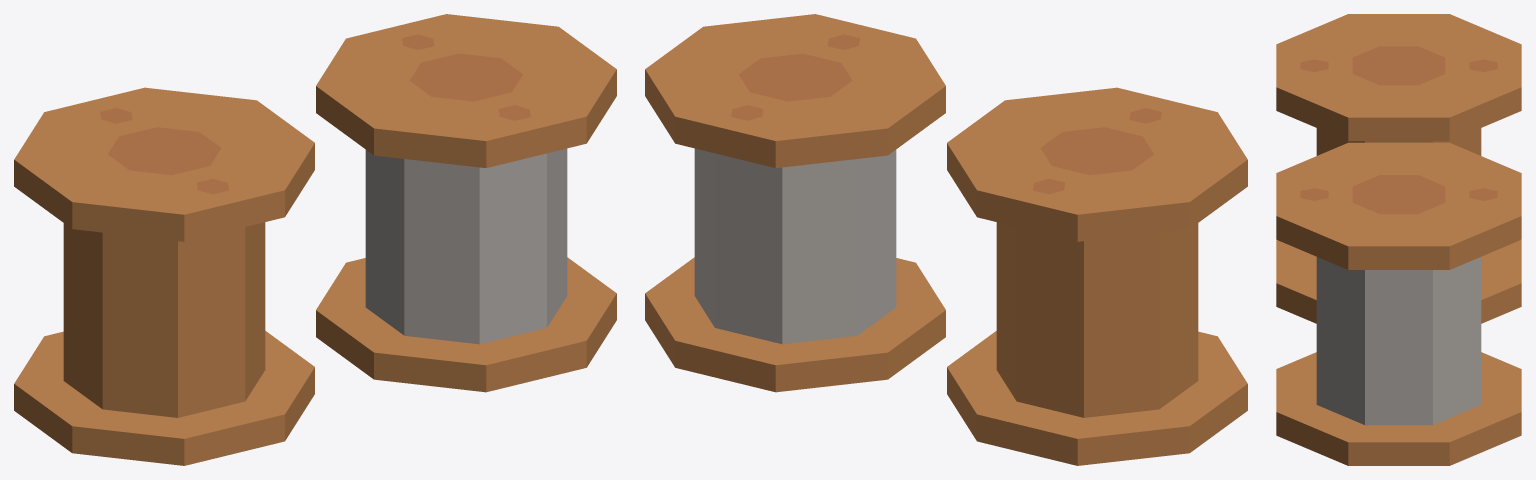
File: Spool.FBX
The picture shows the model from 3 angles, left to right: view 1: azimuth 30°, elevation 25°; view 2: azimuth 150°, elevation 25°; view 3: azimuth 270°, elevation 25°; orthographic projection. The views are drawn at different scales.
Visible parts, largest first — view 1: spool_01, spool_02; view 2: spool_01, spool_02; view 3: spool_02, spool_01.
Part boxes in pixels (x1,y1,x2,y2): spool_01: (14, 87, 314, 465); spool_02: (316, 14, 616, 392); spool_01: (947, 87, 1247, 465); spool_02: (645, 14, 945, 392); spool_02: (1276, 142, 1521, 465); spool_01: (1276, 14, 1521, 323).
Size of what is drawn, in the model's own units: 361 by 159 by 161.
